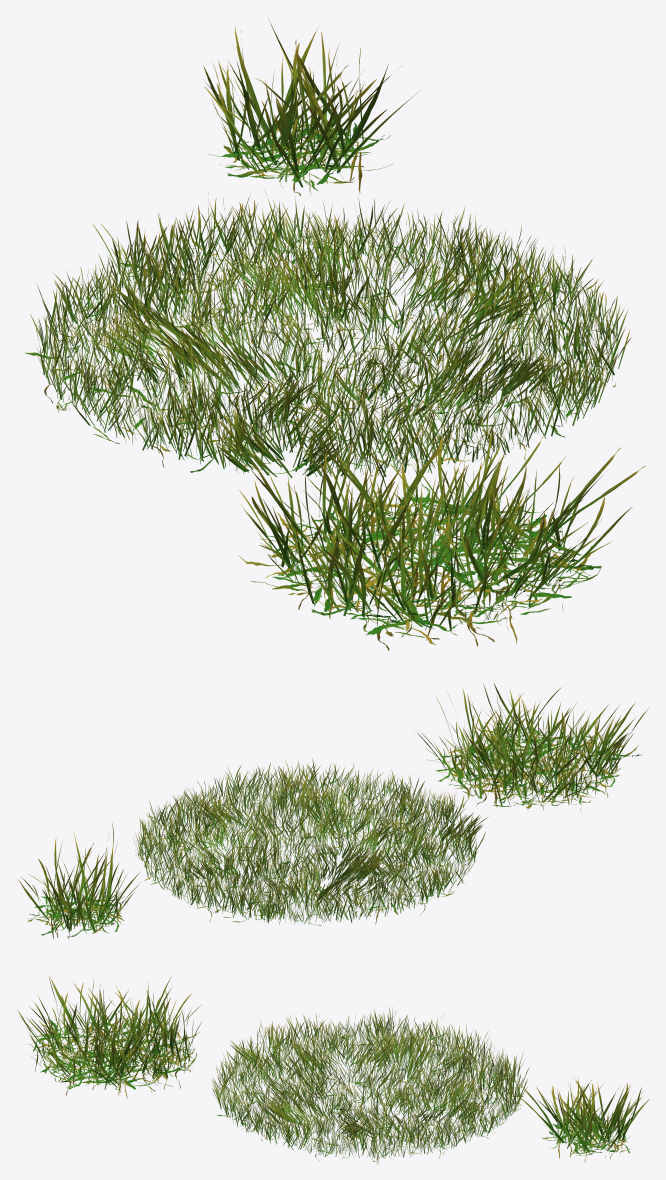
File: grass_patches_-_circle.glb
3 renders of one model, top to bottom at view 1: azimuth 30°, elevation 25°; view 2: azimuth 150°, elevation 25°; view 3: azimuth 270°, elevation 25°, orthographic. The views are drawn at different scales.
Visible parts, largest first — view 1: GrassEmitterCircleMesh.004|BR_MainGrass_Diff.071|Dupli|117_B (×4); view 2: GrassEmitterCircleMesh.004|BR_MainGrass_Diff.071|Dupli|117_B (×4); view 3: GrassEmitterCircleMesh.004|BR_MainGrass_Diff.071|Dupli|117_B (×4).
Boxes of the visible parts, box(x1,y1,x2,y2) form: GrassEmitterCircleMesh.004|BR_MainGrass_Diff.071|Dupli|117_B (×4): box(25, 18, 646, 650); GrassEmitterCircleMesh.004|BR_MainGrass_Diff.071|Dupli|117_B (×4): box(17, 683, 648, 939); GrassEmitterCircleMesh.004|BR_MainGrass_Diff.071|Dupli|117_B (×4): box(17, 976, 649, 1164).
Size of the model in its own units: 11.17 by 2.88 by 20.39.
1 material, 1 textured.
